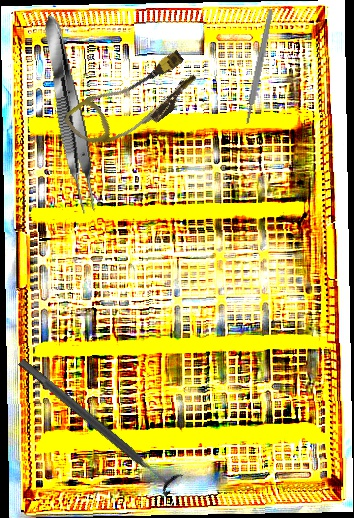Cannula: (61, 37, 205, 167)
Fixation Ring: (11, 349, 185, 498)
Scalpel Handle: (243, 8, 275, 125)
Tissue Forceps: (36, 12, 104, 216)
